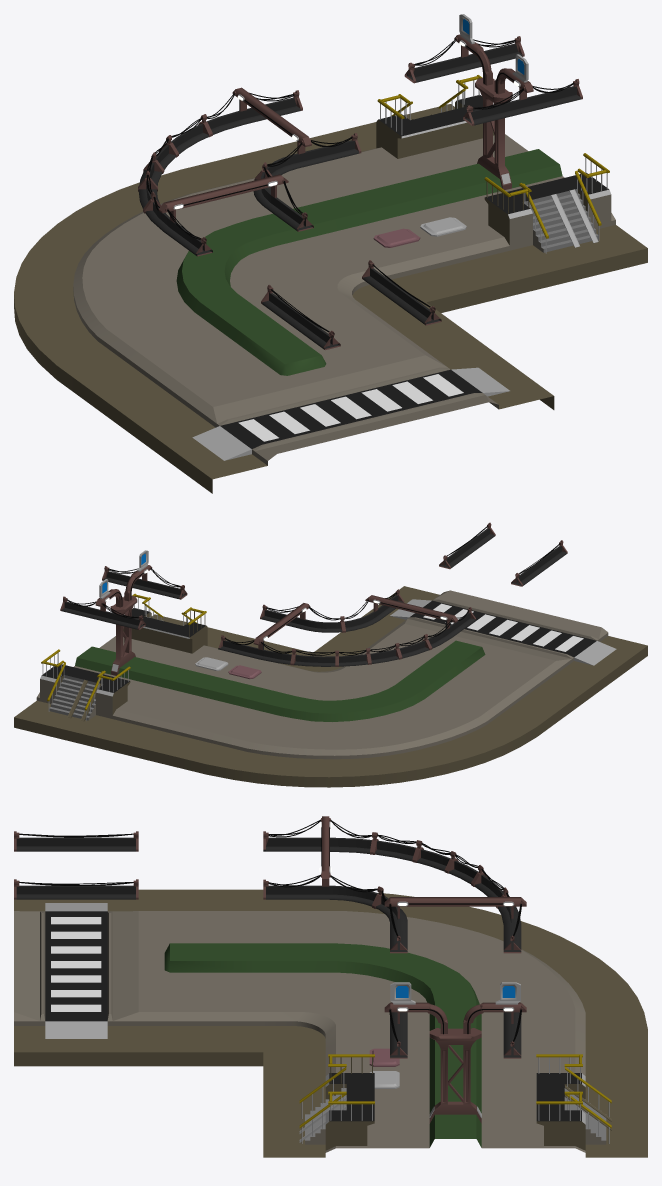
The model's file is TramwayRoad.fbx.
3 renders of one model, top to bottom at view 1: azimuth 30°, elevation 25°; view 2: azimuth 150°, elevation 25°; view 3: azimuth 270°, elevation 25°, orthographic. The views are drawn at different scales.
Parts seen in each view (by area): view 1: Plane.001, Plane.010, Plane, Plane.002, Plane.003, Plane.017, Plane.016, Plane.005, Plane.011; view 2: Plane.001, Plane.010, Plane.003, Plane, Plane.002, Plane.017, Plane.016, Plane.005; view 3: Plane.001, Plane.010, Plane.002, Plane, Plane.003, Plane.017, Plane.016, Plane.005, Plane.011.
Boxes of the visible parts, bbox=[...] form: Plane.001: bbox=[14, 158, 425, 399]; Plane.010: bbox=[340, 75, 647, 289]; Plane: bbox=[148, 349, 554, 493]; Plane.002: bbox=[84, 302, 489, 446]; Plane.003: bbox=[229, 131, 536, 312]; Plane.017: bbox=[138, 87, 361, 256]; Plane.016: bbox=[404, 34, 582, 189]; Plane.005: bbox=[261, 260, 441, 350]; Plane.011: bbox=[459, 14, 528, 82]; Plane.001: bbox=[172, 653, 556, 787]; Plane.010: bbox=[14, 593, 233, 746]; Plane.003: bbox=[93, 633, 312, 765]; Plane: bbox=[361, 586, 647, 688]; Plane.002: bbox=[313, 623, 602, 722]; Plane.017: bbox=[218, 589, 476, 666]; Plane.016: bbox=[60, 565, 187, 675]; Plane.005: bbox=[439, 522, 567, 586]; Plane.001: bbox=[263, 893, 647, 1052]; Plane.010: bbox=[263, 1054, 647, 1157]; Plane.002: bbox=[138, 889, 263, 1066]; Plane: bbox=[14, 899, 138, 1066]; Plane.003: bbox=[263, 1039, 647, 1104]; Plane.017: bbox=[263, 816, 526, 953]; Plane.016: bbox=[384, 1002, 526, 1123]; Plane.005: bbox=[14, 831, 138, 899]; Plane.011: bbox=[390, 982, 520, 1004].
Size of the model in its own units: 3050 by 864 by 3050.
